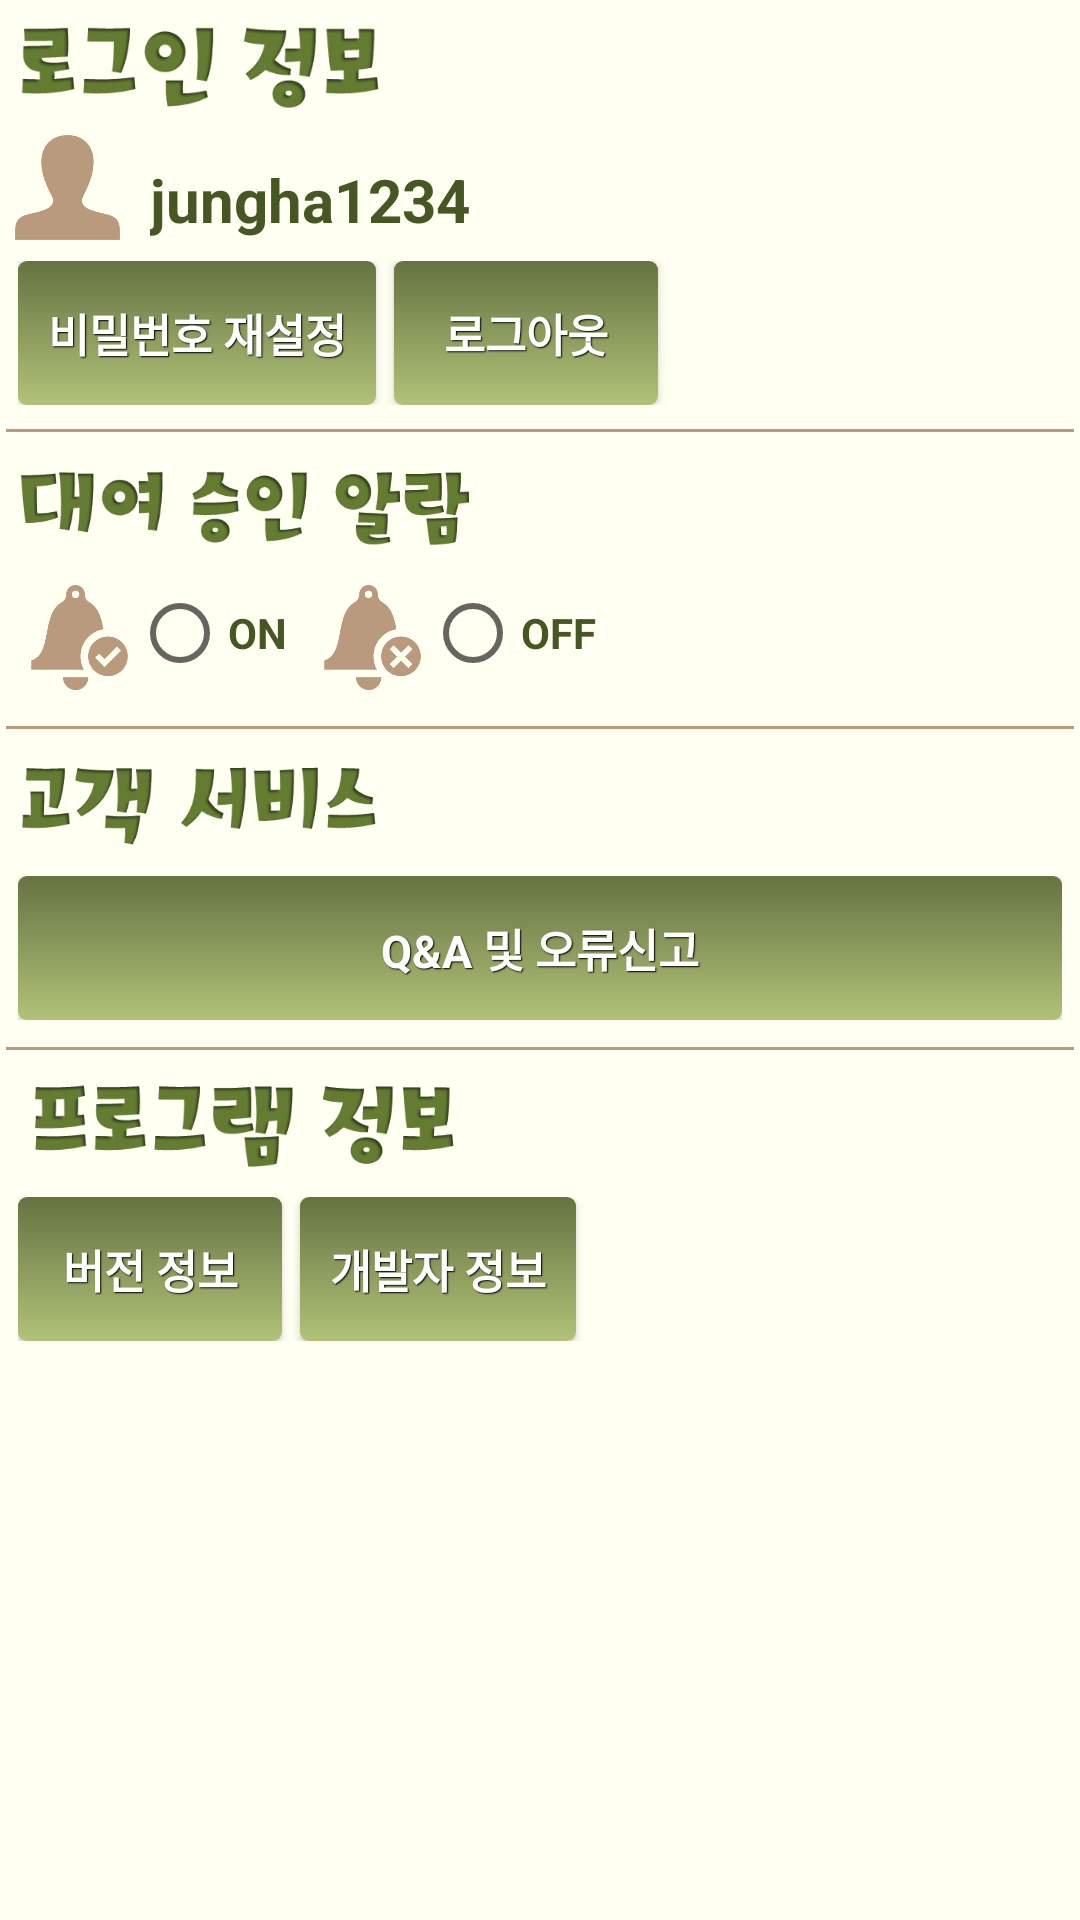

Where icons sit on this 1080px×1920px app screen, as (x1, y1, x2, y2):
alarm off: (324, 585, 421, 690)
alarm on: (31, 585, 128, 690)
user: (15, 135, 120, 240)
